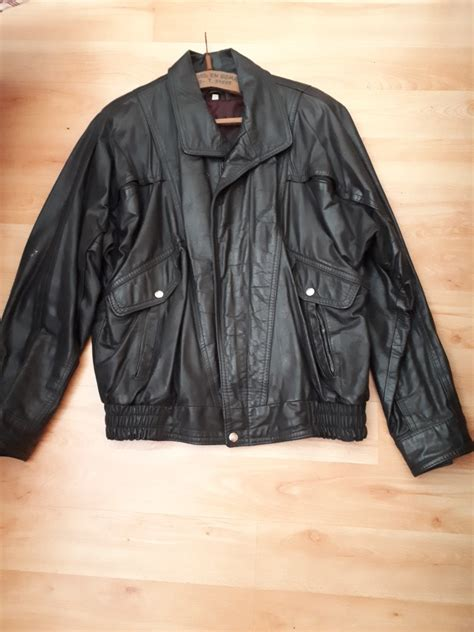cuero: (1, 49, 474, 478)
